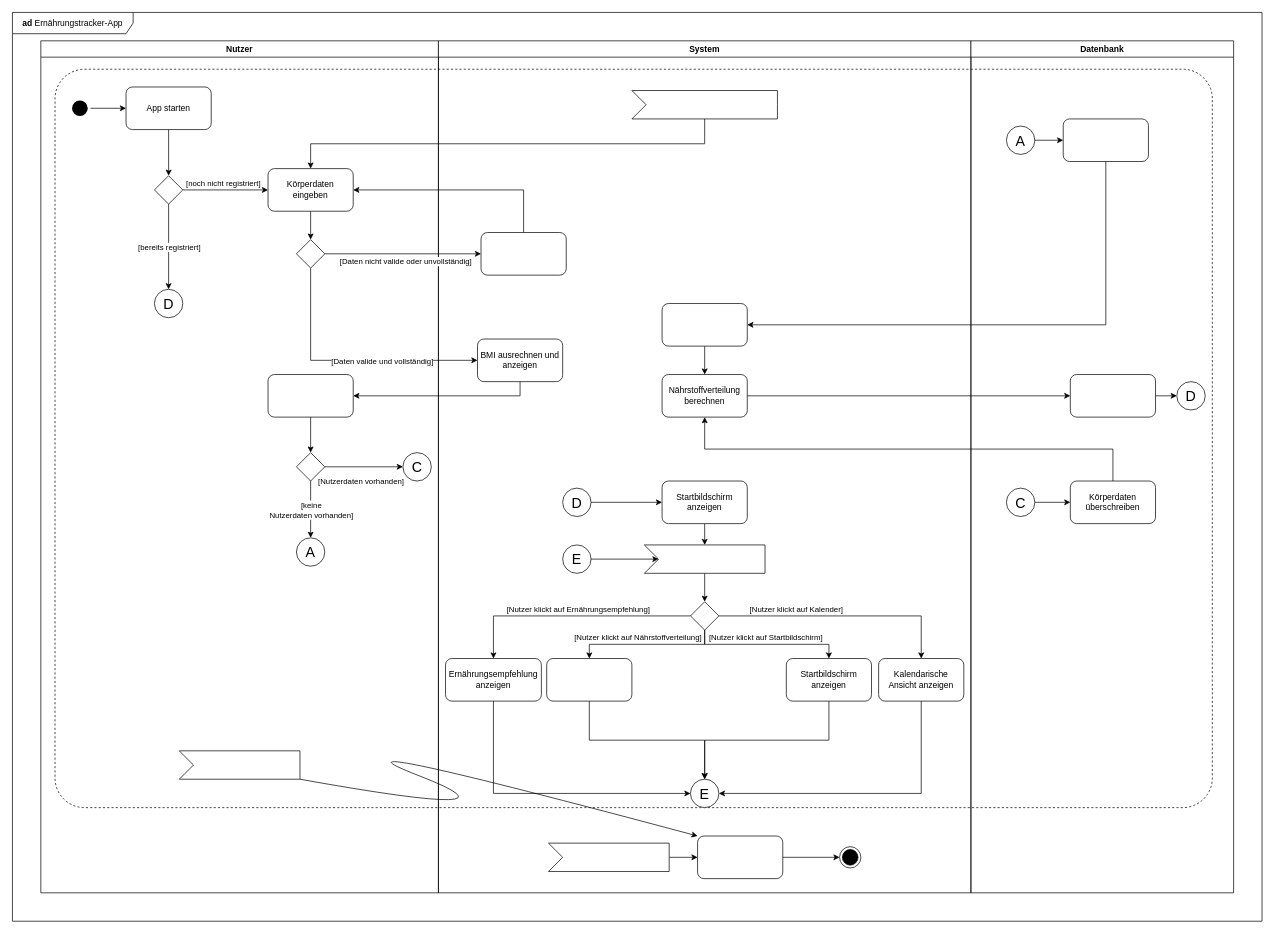
The diagram is 1274 pixels wide and 934 high, and some of its shapes have lost their labels. The centre of each missing label's shape, as x and y in pixels:
Alle Prozesse terminieren: the point at 740,857
Ansicht ändern: the point at 704,558
App neu starten: the point at 239,764
App schließen: the point at 608,857
Ernährungsziel auswählen: the point at 310,395
Fehlermeldung ausgeben: the point at 523,253
Körperdaten aktualisieren: the point at 704,104
Körperdaten eintragen: the point at 1105,140
Nährstoffdaten eintragen: the point at 1113,395
Nährstoffverteilung anzeigen: the point at 589,679
Registrierung abschließen: the point at 704,324
